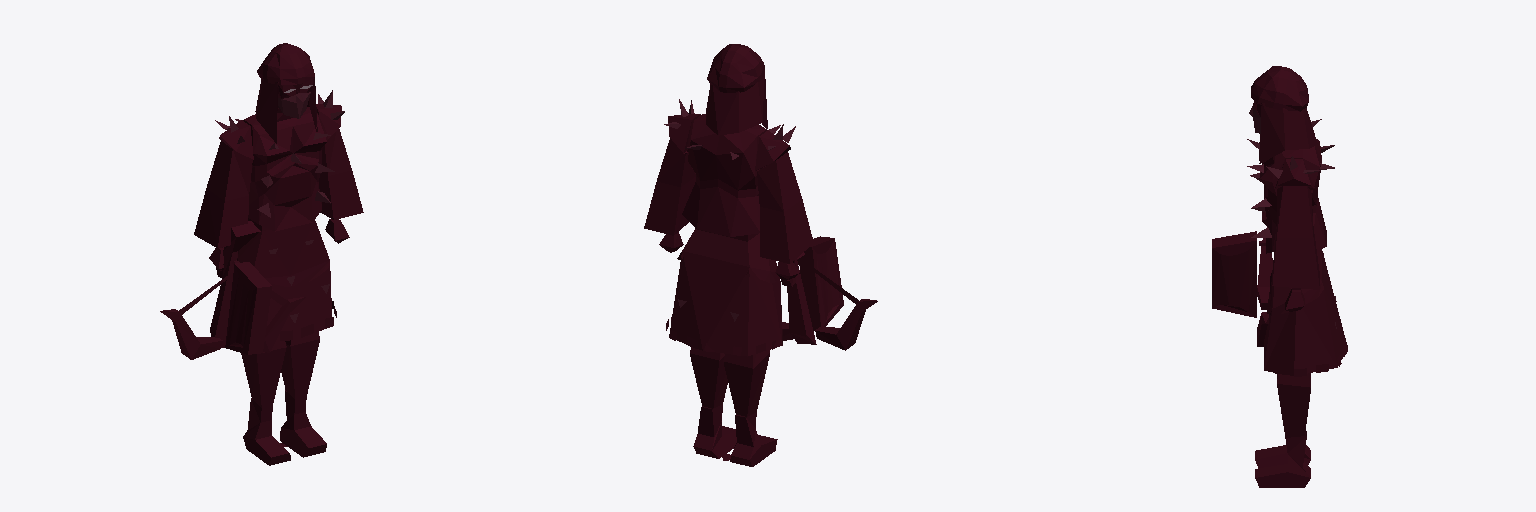
File: karil.obj
3 views of the same model, side by side, from view 1: azimuth 30°, elevation 25°; view 2: azimuth 150°, elevation 25°; view 3: azimuth 270°, elevation 25° (orthographic).
Bounding box in the file's own units: 111 × 207 × 63.